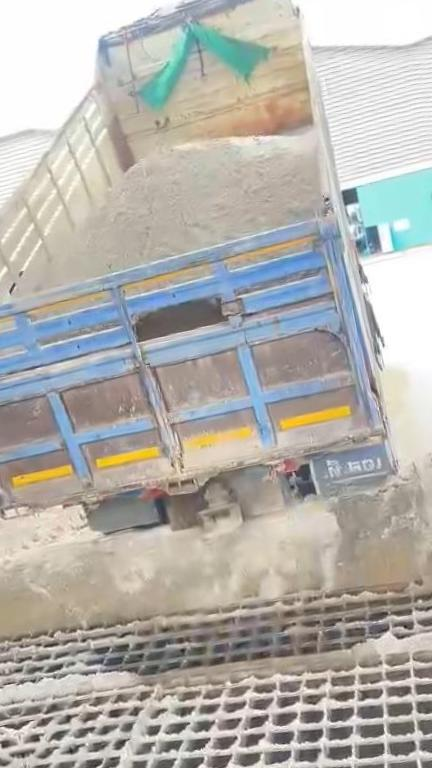sand: (0, 433, 432, 645), (37, 133, 326, 292), (11, 665, 138, 703), (373, 634, 432, 653)
